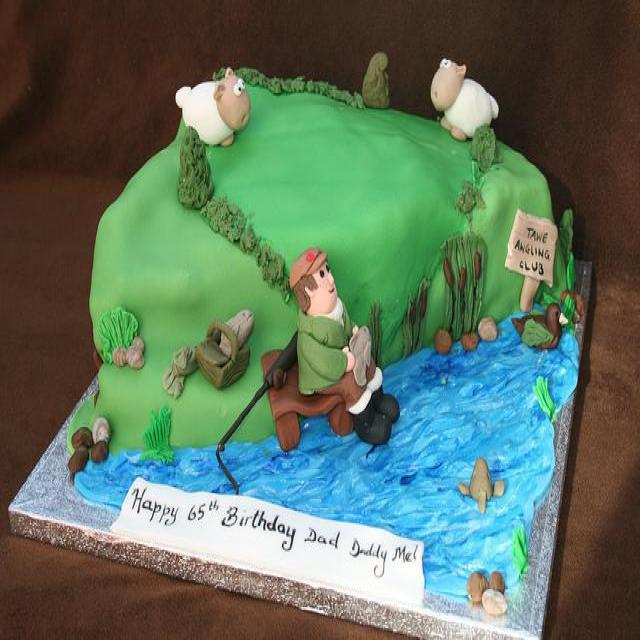Sheep: (173, 64, 255, 150)
